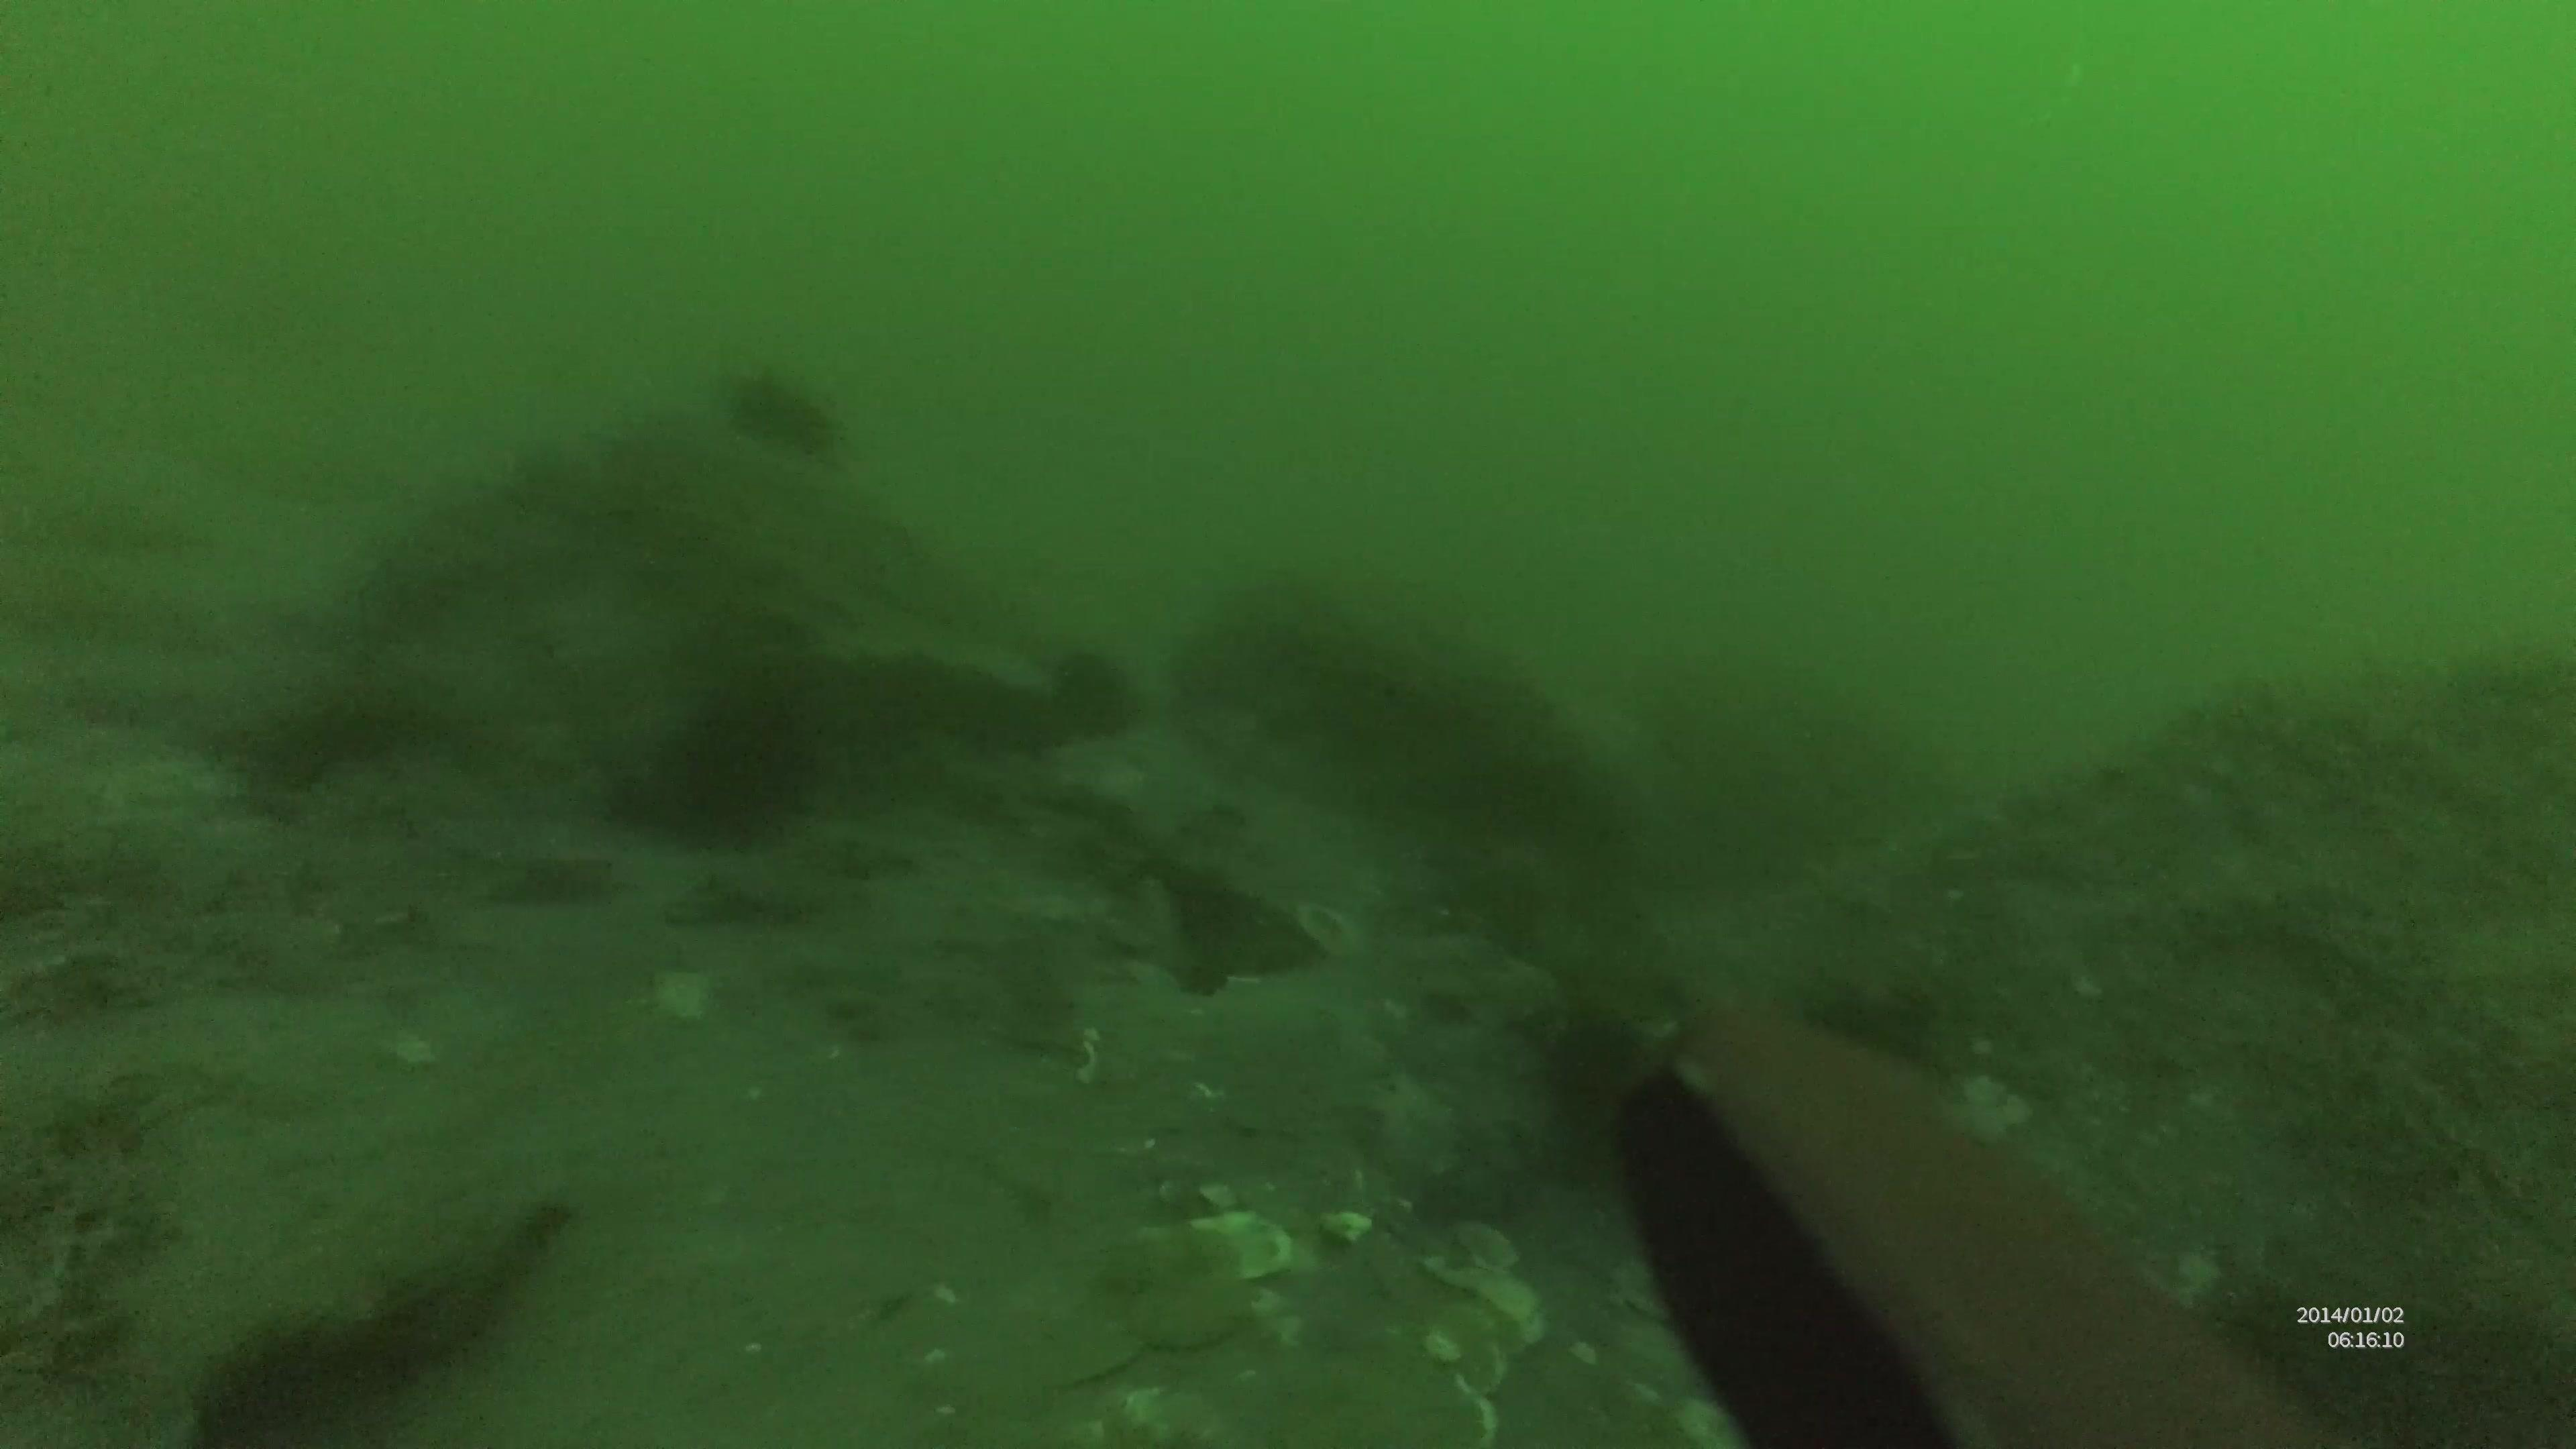echinus: (681, 692, 814, 833), (724, 368, 849, 458), (1817, 980, 1927, 1054), (1157, 858, 1249, 941), (1054, 651, 1136, 734)
